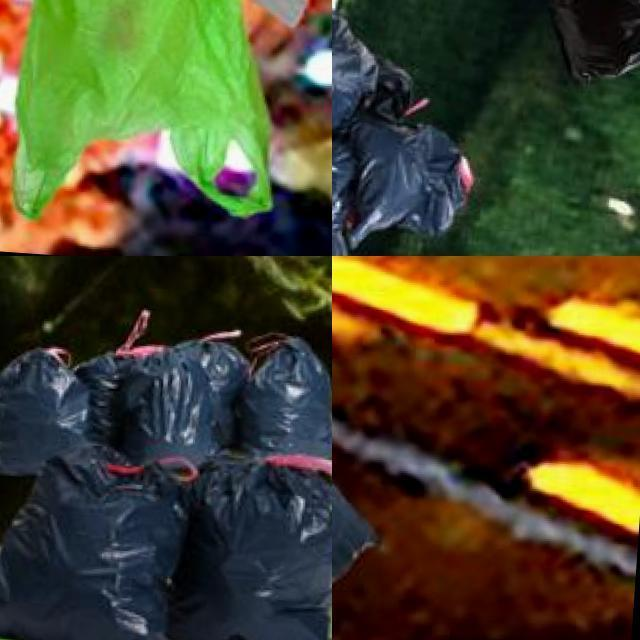waste: (9, 0, 297, 228), (0, 441, 190, 640), (164, 453, 332, 640), (344, 108, 484, 250), (89, 346, 229, 466), (0, 347, 100, 472), (497, 0, 640, 87), (237, 339, 332, 459), (332, 0, 394, 130), (332, 456, 380, 600)
